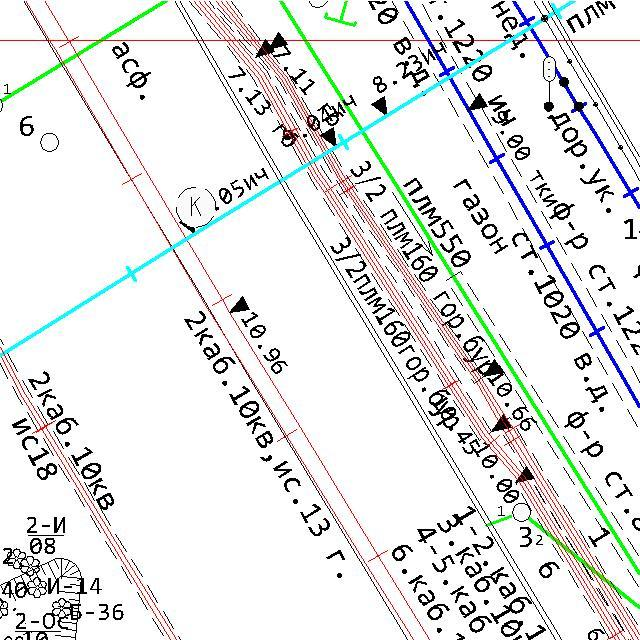asphalt: (111, 42, 152, 102)
bushes: (175, 185, 217, 229), (26, 576, 49, 599), (20, 555, 42, 578), (7, 547, 27, 570), (51, 597, 71, 619)
mark: (253, 37, 276, 59), (482, 358, 506, 379), (228, 295, 251, 315), (490, 412, 512, 432), (320, 126, 338, 150), (468, 92, 489, 112), (370, 95, 389, 117), (515, 465, 534, 484), (271, 31, 289, 50)
well: (511, 502, 533, 523), (40, 132, 60, 153)
